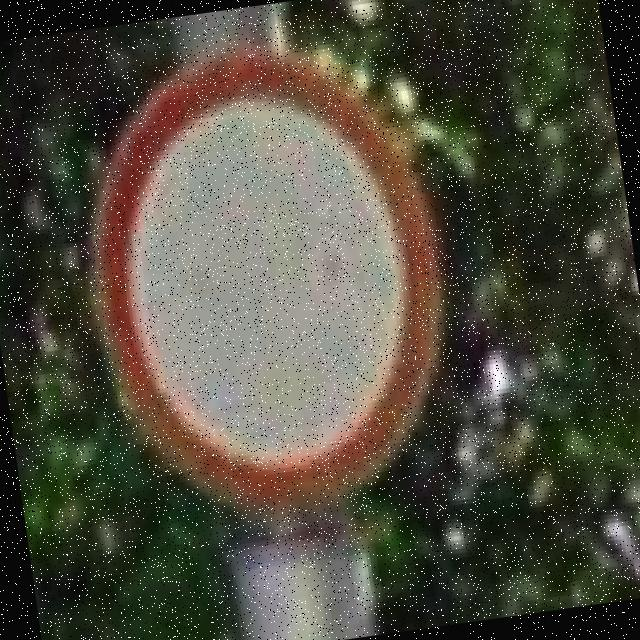Zakaz ruchu w obu kierunkach: (60, 32, 476, 530)
